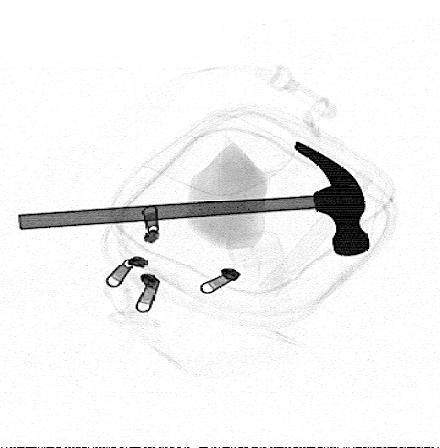Hammer: (16, 140, 370, 256)
